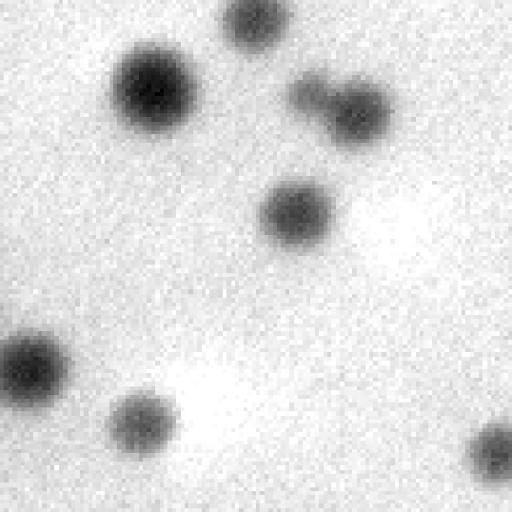Nanoparticles: (110, 35, 204, 144), (253, 162, 342, 254), (99, 376, 185, 462), (0, 328, 81, 416), (319, 70, 399, 154), (215, 0, 296, 61), (460, 416, 512, 490), (286, 66, 339, 122)
